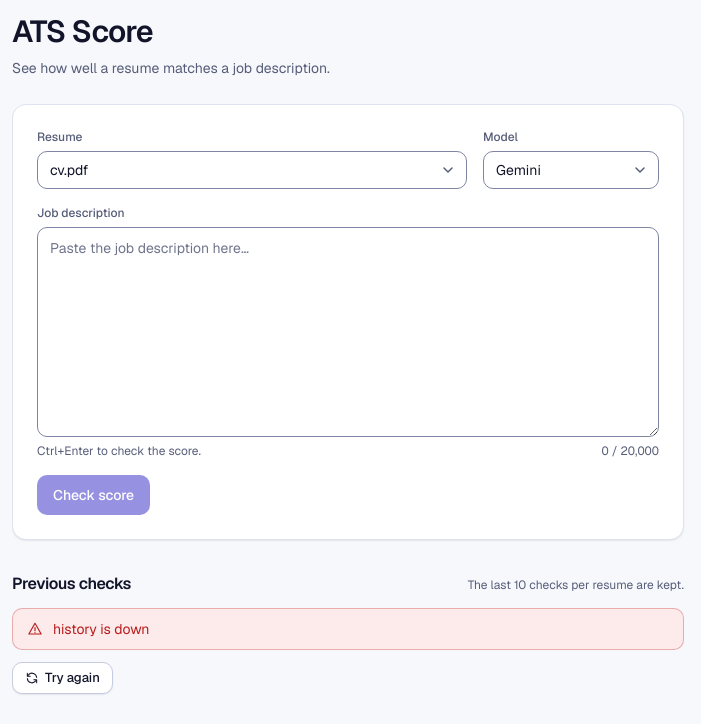
Scenario: ATS previous checks › shows an error with a working retry
The image size is (701, 724).
Expected: the text "history is down" is shown, [53,620,150,638]
Click the button "Try again": (62, 678) [12,662,113,694]
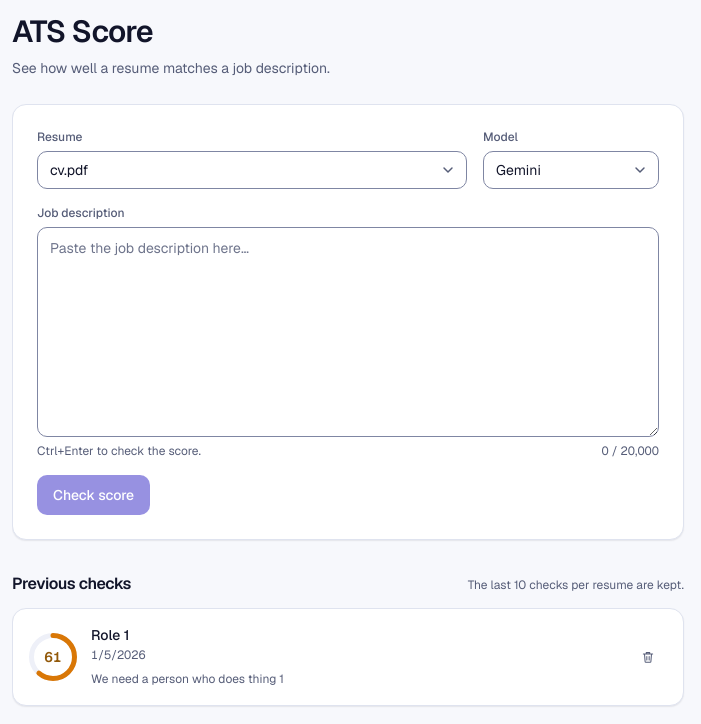
Expected: the button with aria-label "Open saved check: Role 1" is shown, [91,625,130,645]
